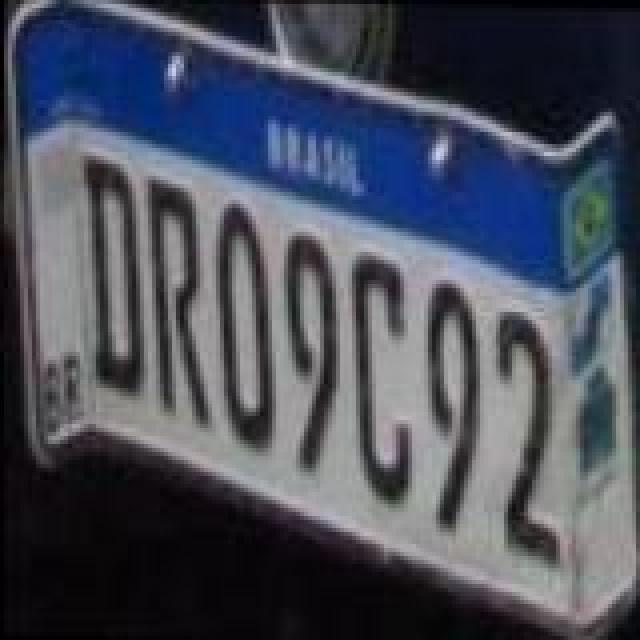2: (490, 306, 566, 566)
9: (276, 226, 344, 474), (416, 276, 480, 532)
C: (348, 252, 416, 500)
D: (80, 154, 148, 398)
O: (210, 198, 274, 458)
R: (144, 180, 212, 428)
